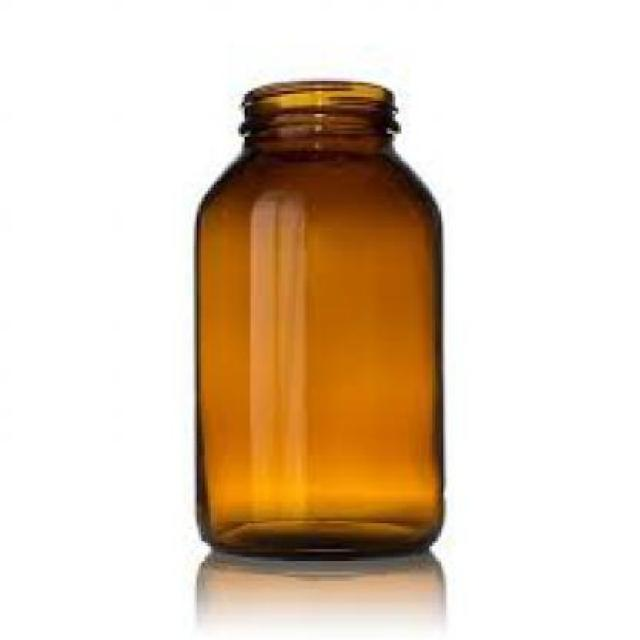kaca: (194, 80, 443, 557)
